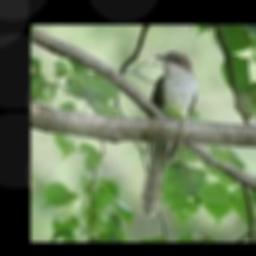Cuckoo: (142, 51, 198, 219)
